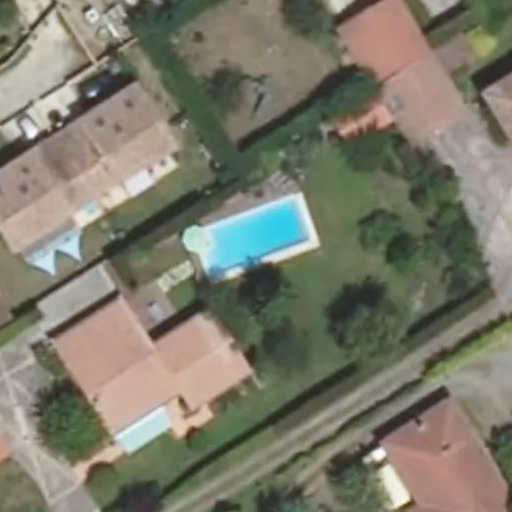pool: (194, 237, 307, 245)
